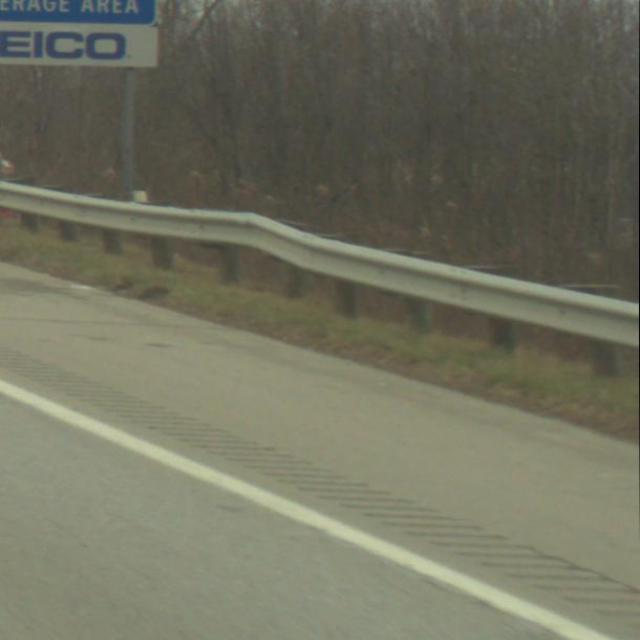Guard rail: (0, 166, 640, 391)
